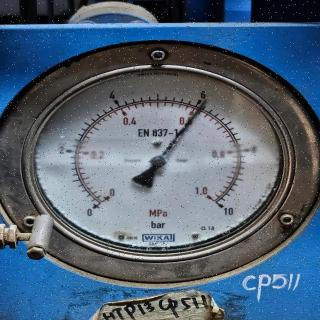gauge: (15, 58, 304, 264), (82, 184, 118, 222), (209, 194, 235, 219), (149, 154, 167, 170), (198, 97, 212, 109)
